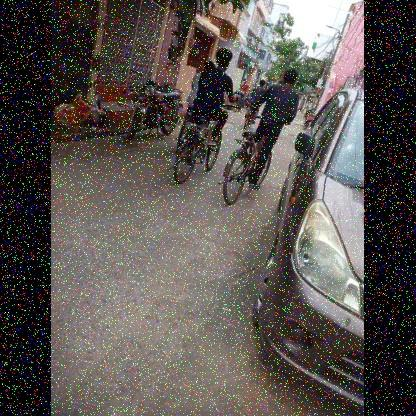Bicycle: (219, 109, 284, 210), (171, 89, 223, 190)
